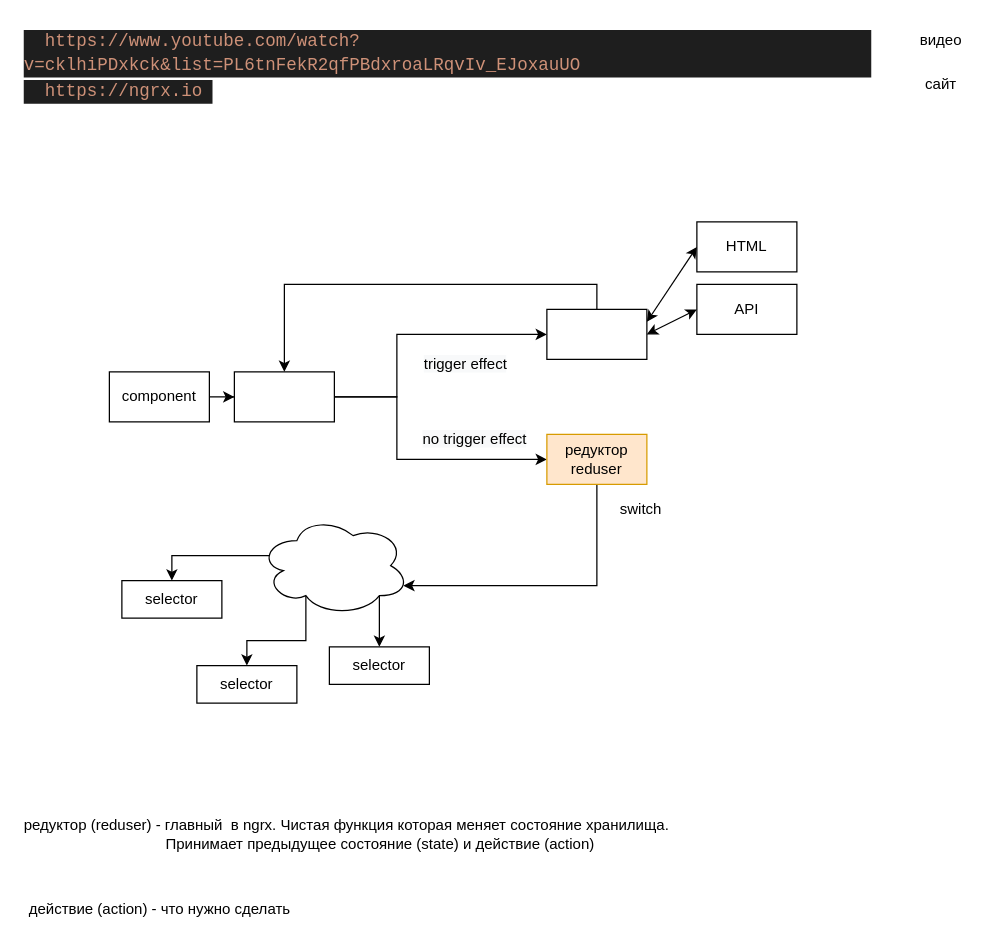
Some shapes in this 993 by 943 pixel diagram are drawn without their labels. The centre of each missing label's shape, as x and y in pixels:
action dispatcher: the point at 283,396
store: the point at 333,565
побочный эффект: the point at 596,333
